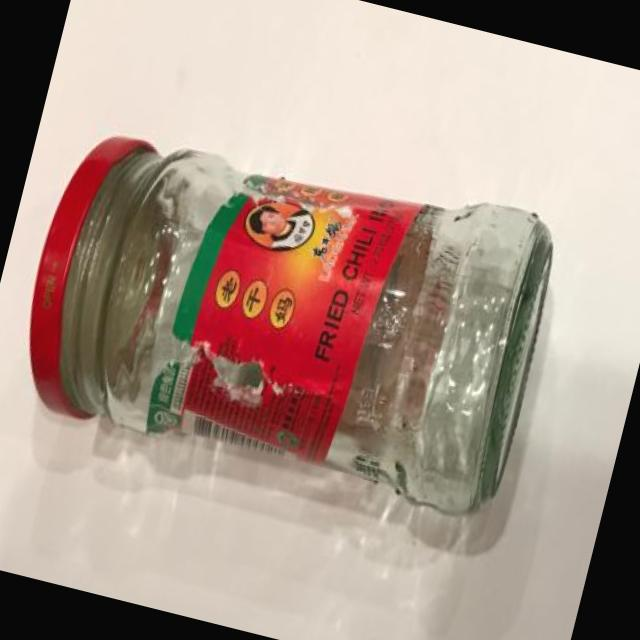chai_thuy_tinh: (59, 150, 553, 514)
kim_loai: (29, 136, 155, 419)
